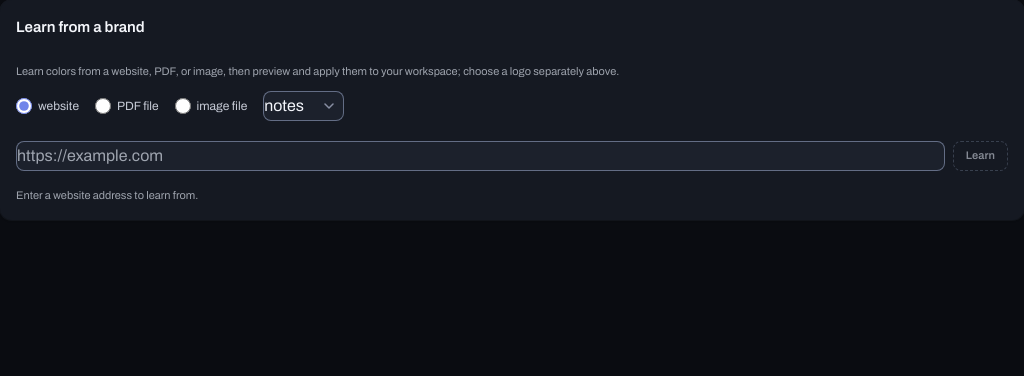
it: BrandLearn — the restored /theme extraction flow › Apply persists the mapped accent through the EXISTING appearance store, logo untouched
In the field with test id "learn-input": (480, 156) [16,141,945,171], type "https://acme.example"
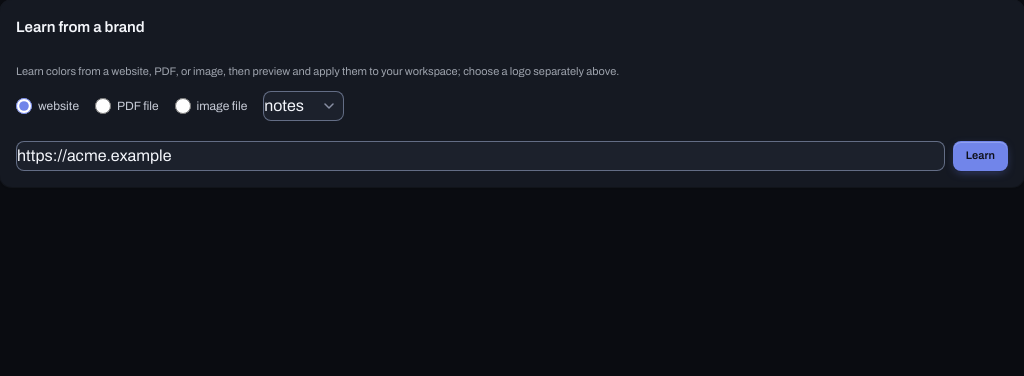
Click the button with test id "learn-submit": (980, 156) [953,141,1008,171]
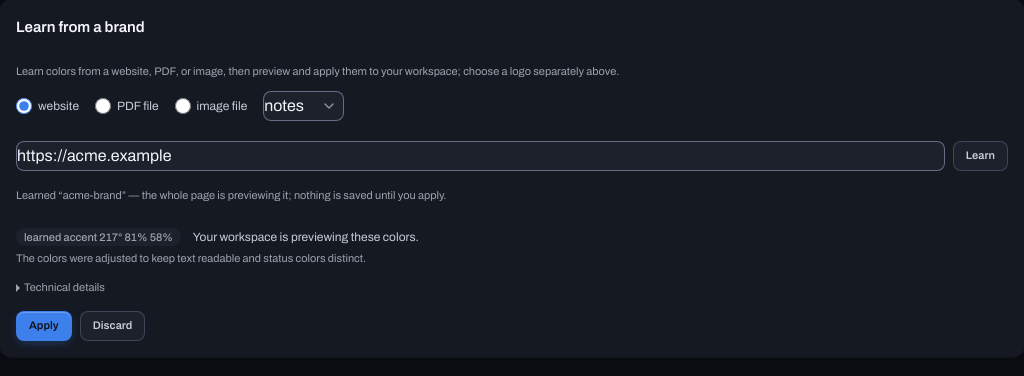
Click the button with test id "learn-apply": (44, 326) [16,310,72,340]
Wait 400 ms
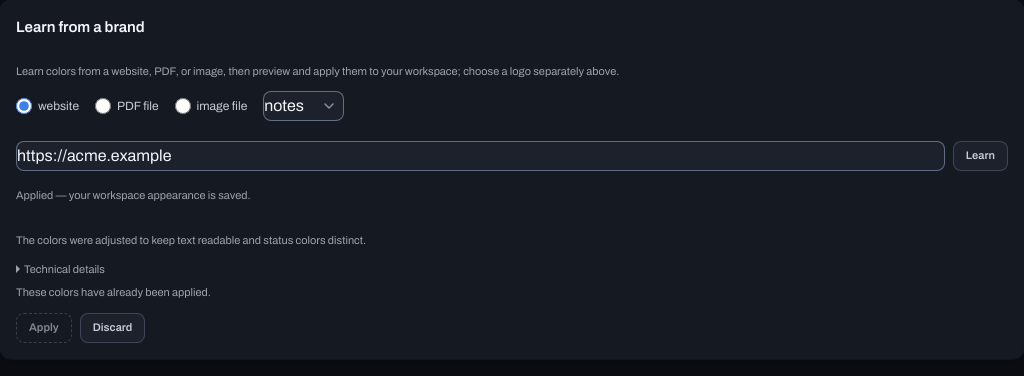
expect the message with test id "learn-status" shows "Applied": met, box [16,189,251,201]
